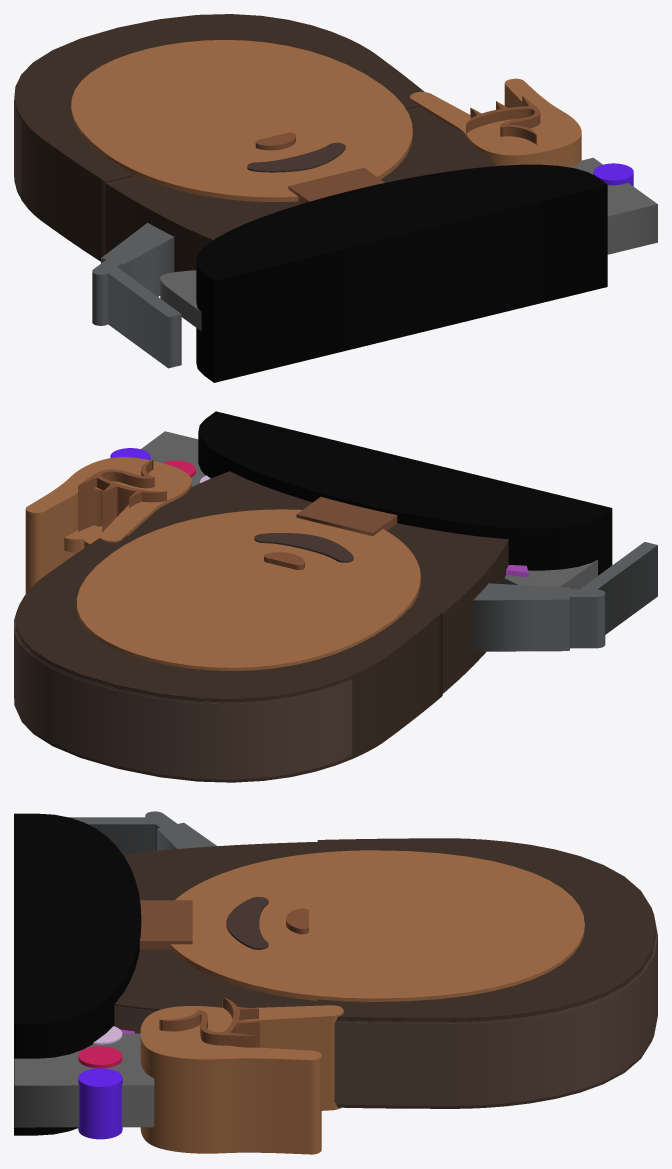
Rendered from emoji_u1f469_1f3fe_200d_1f3a4.glb.
3 renders of one model, top to bottom at view 1: azimuth 30°, elevation 25°; view 2: azimuth 150°, elevation 25°; view 3: azimuth 270°, elevation 25°, orthographic. The views are drawn at different scales.
Parts seen in each view (by area): view 1: emoji_u1f469_1f3fe_200d_1f3a4; view 2: emoji_u1f469_1f3fe_200d_1f3a4; view 3: emoji_u1f469_1f3fe_200d_1f3a4.
Part boxes in pixels (box(x1,y1,x2,y2)): emoji_u1f469_1f3fe_200d_1f3a4: box(14, 14, 657, 382); emoji_u1f469_1f3fe_200d_1f3a4: box(14, 411, 657, 782); emoji_u1f469_1f3fe_200d_1f3a4: box(14, 811, 657, 1154).
Size of the model in its own units: 0.0336 by 0.0066 by 0.0334.
